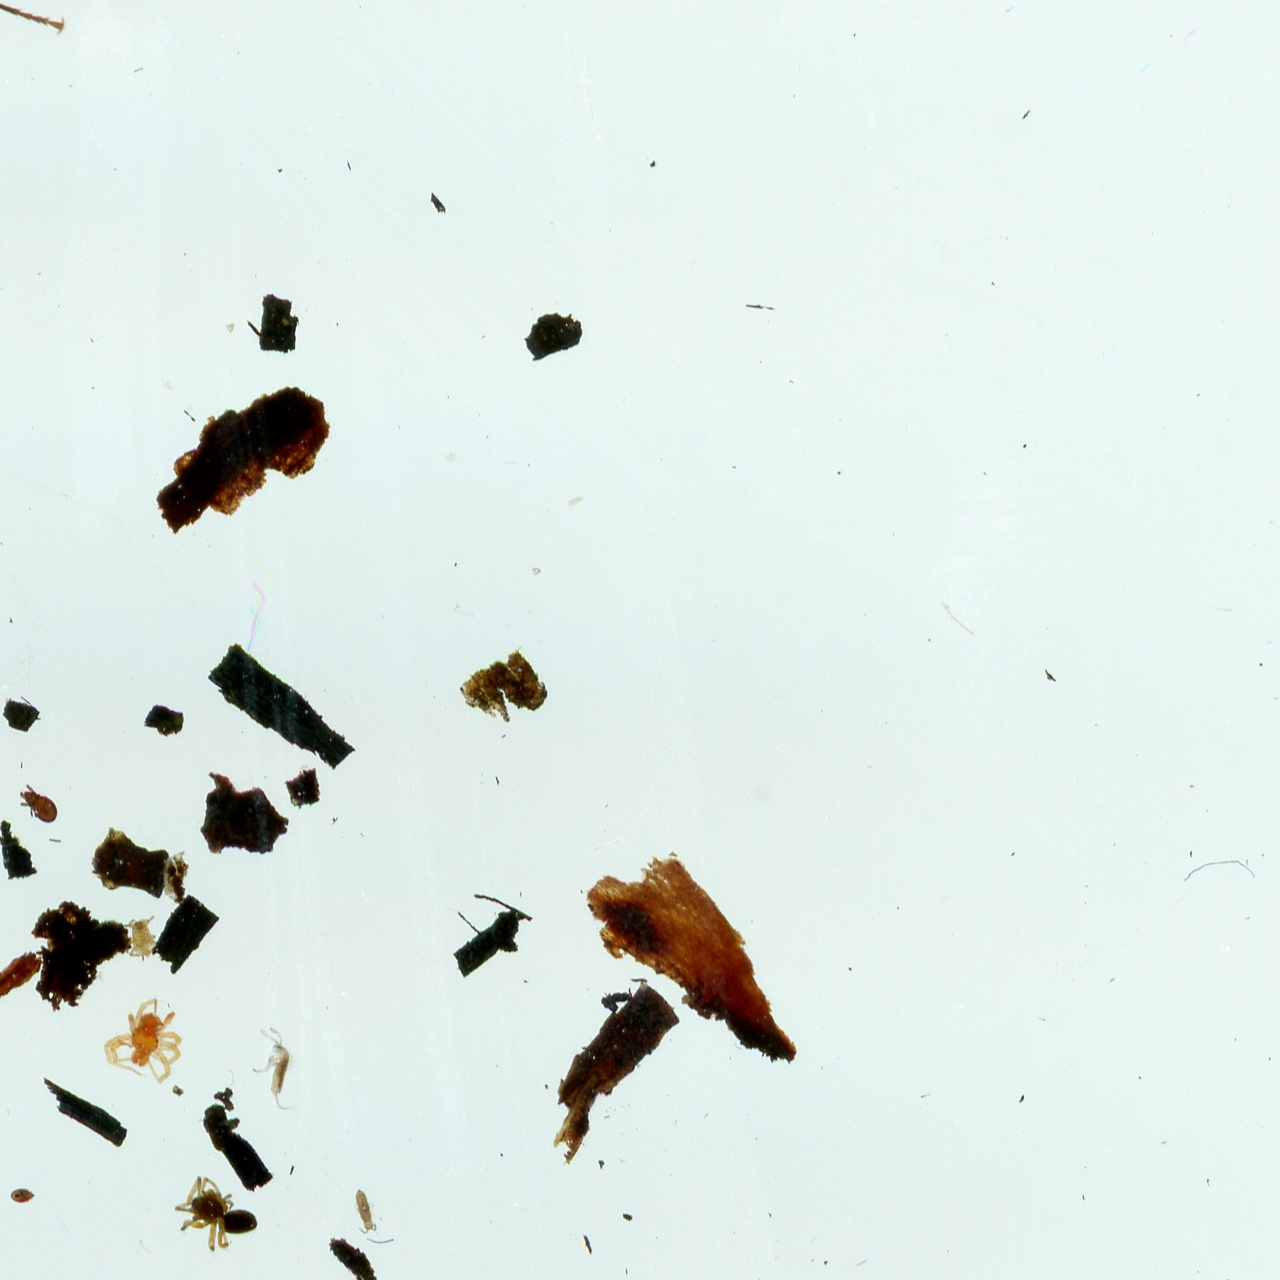arthropod: (98, 996, 187, 1087), (172, 1173, 260, 1256), (250, 1024, 303, 1116), (120, 915, 163, 963), (16, 783, 60, 827), (351, 1184, 382, 1236), (10, 1187, 36, 1206)
